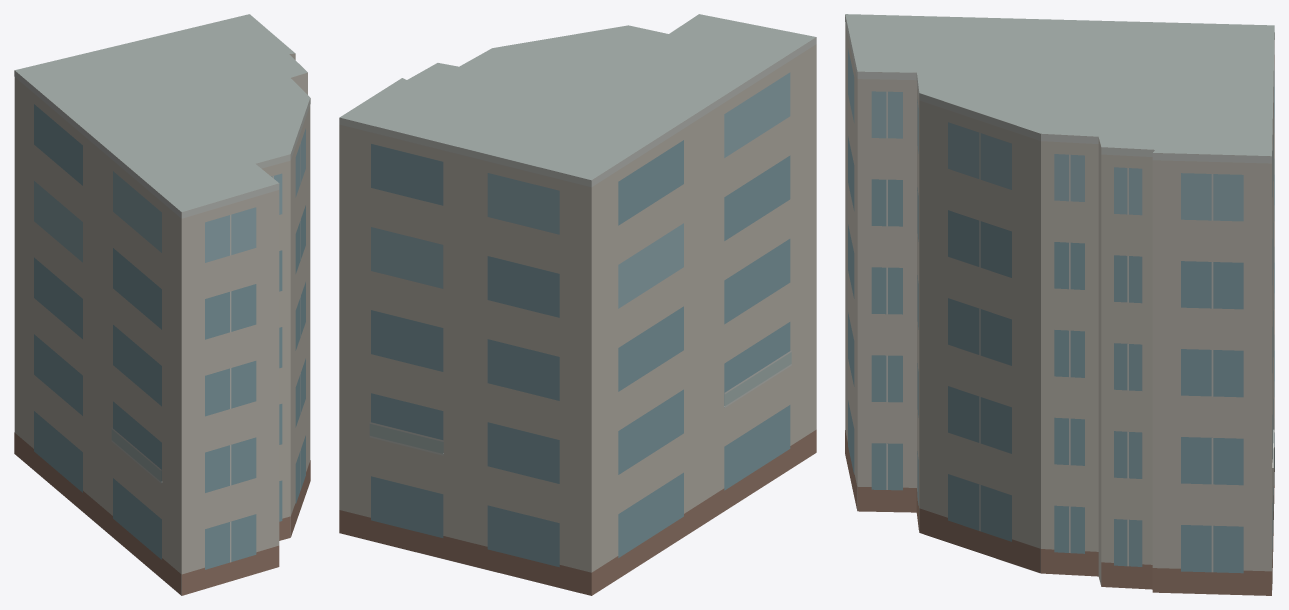
File: survey-upis-32890261.glb
3 views of the same model, side by side, from view 1: azimuth 30°, elevation 25°; view 2: azimuth 150°, elevation 25°; view 3: azimuth 270°, elevation 25° (orthographic). The views are drawn at different scales.
Parts seen in each view (by area): view 1: survey-upis-32890261.tmp; view 2: survey-upis-32890261.tmp; view 3: survey-upis-32890261.tmp.
Part boxes in pixels (x1,y1,x2,y2): survey-upis-32890261.tmp: (14,14,310,595); survey-upis-32890261.tmp: (339,14,816,595); survey-upis-32890261.tmp: (845,14,1274,595).
Bounding box in the file's own units: 10.03 × 14.45 × 12.81.
